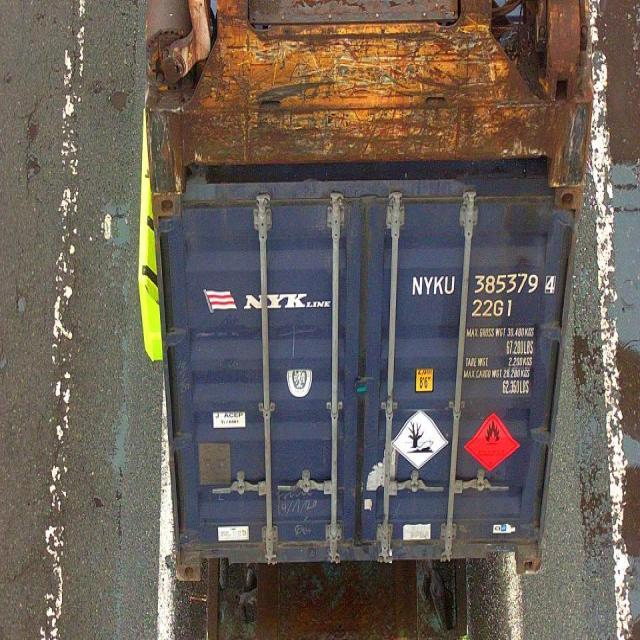ISO: (474, 296, 512, 316)
container_number: (410, 272, 560, 298)
